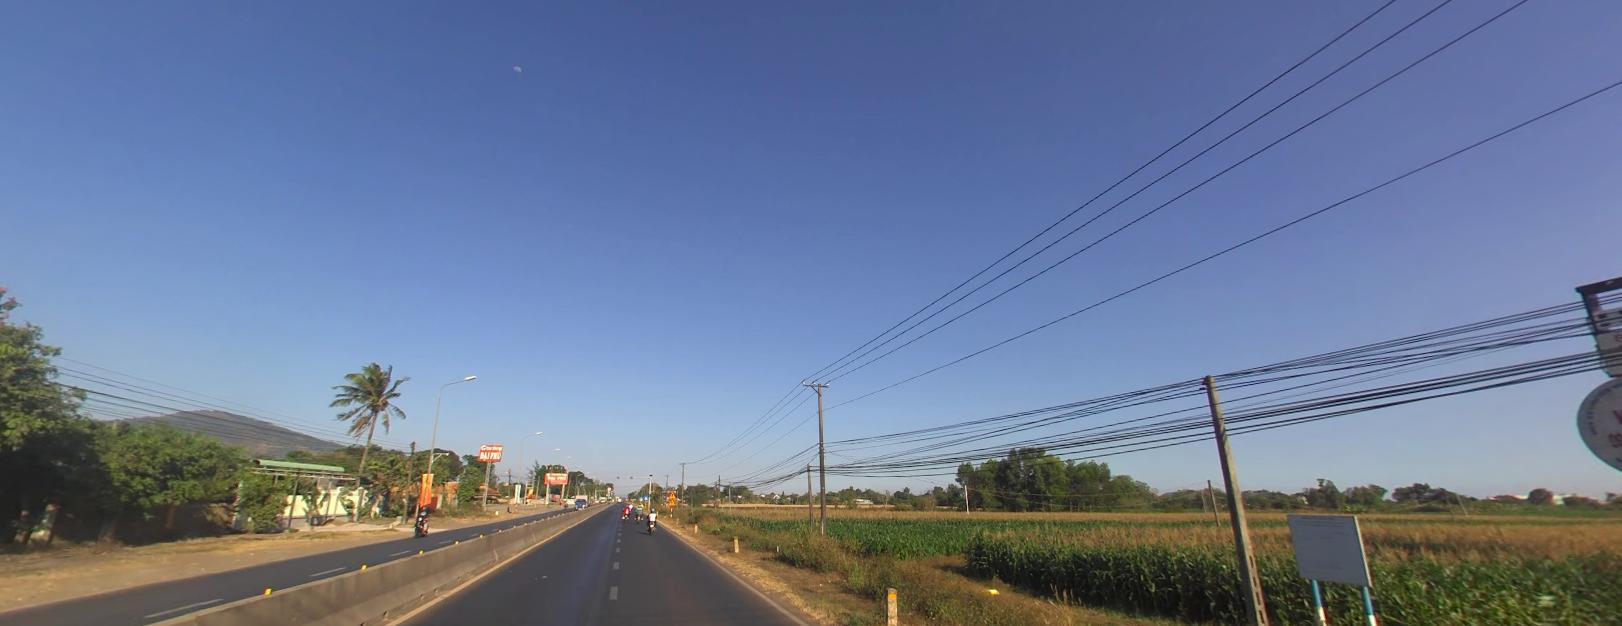Nguy hiem: (668, 498, 675, 505), (668, 497, 675, 504), (668, 490, 675, 497), (668, 490, 675, 496)
